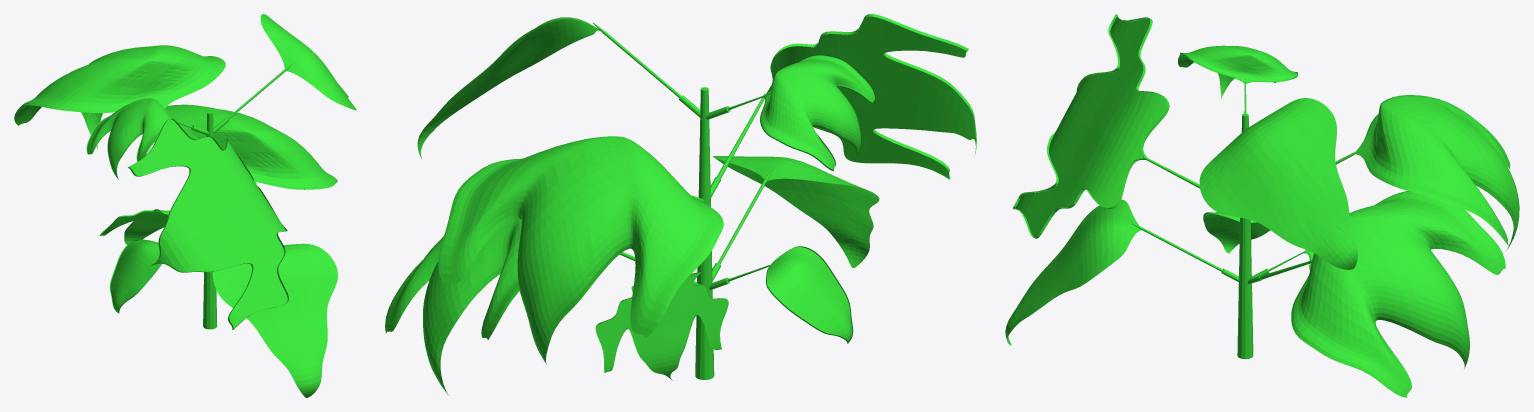
The model's file is plant.dae.
3 renders of one model, left to right at view 1: azimuth 30°, elevation 25°; view 2: azimuth 150°, elevation 25°; view 3: azimuth 270°, elevation 25°, orthographic. The views are drawn at different scales.
Parts seen in each view (by area): view 1: CottonPlant_v1; view 2: CottonPlant_v1; view 3: CottonPlant_v1.
Boxes of the visible parts, x1=… form: CottonPlant_v1: x1=14, y1=14, x2=356, y2=397; CottonPlant_v1: x1=385, y1=14, x2=976, y2=395; CottonPlant_v1: x1=1005, y1=14, x2=1519, y2=397.
Size of the model in its own units: 0.1524 by 0.1933 by 0.1249.
